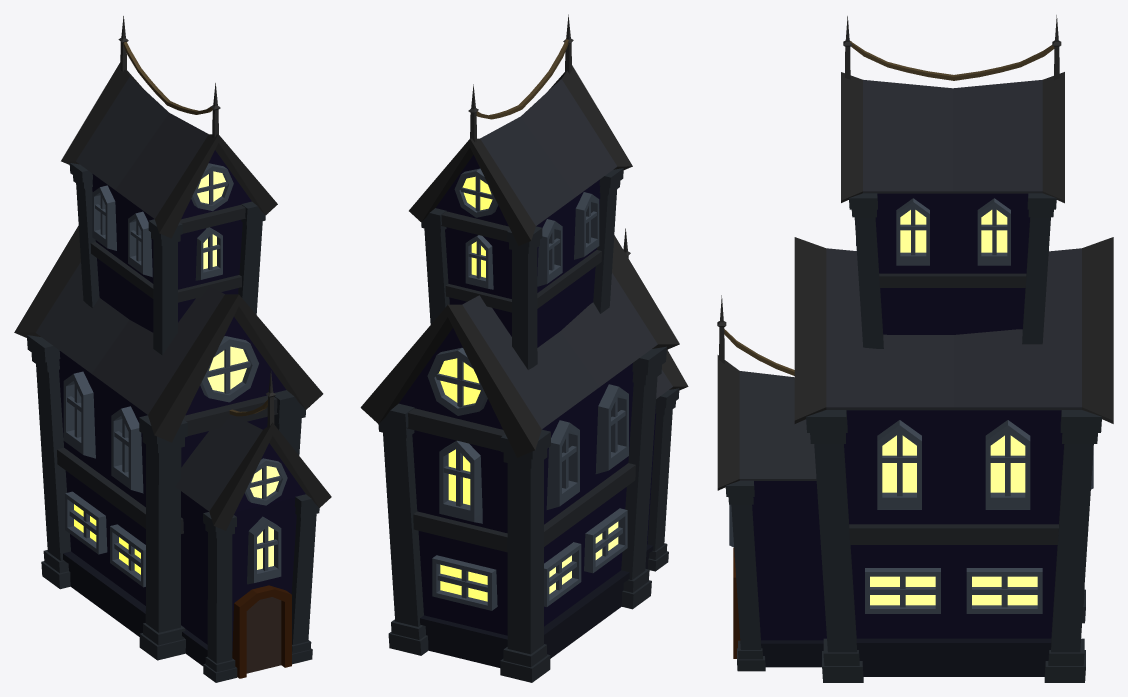
The model's file is Casa6.fbx.
3 renders of one model, left to right at view 1: azimuth 30°, elevation 25°; view 2: azimuth 150°, elevation 25°; view 3: azimuth 270°, elevation 25°, orthographic. The views are drawn at different scales.
Visible parts, largest first — view 1: Teto06, Pilar06, Parede06, JanelaMolde06, Divisao06, Base06, JanelaFundo06, Porta06, PortaContorno06, Ponta06, Corda06; view 2: Teto06, Pilar06, Parede06, JanelaMolde06, Divisao06, Base06, JanelaFundo06, Corda06, Ponta06; view 3: Teto06, Parede06, Pilar06, JanelaMolde06, Base06, JanelaFundo06, Divisao06, Corda06, Ponta06.
Boxes of the visible parts, box(x1,y1,x2,y2) form: Teto06: box(14, 62, 331, 530); Pilar06: box(26, 163, 319, 682); Parede06: box(59, 150, 305, 650); JanelaMolde06: box(63, 163, 287, 587); Divisao06: box(57, 205, 277, 533); Base06: box(63, 551, 207, 665); JanelaFundo06: box(74, 171, 279, 574); Porta06: box(246, 597, 281, 673); PortaContorno06: box(232, 585, 291, 678); Ponta06: box(118, 16, 275, 427); Corda06: box(123, 42, 267, 416); Teto06: box(360, 65, 688, 457); Pilar06: box(378, 168, 679, 682); Parede06: box(399, 155, 656, 635); JanelaMolde06: box(427, 168, 628, 610); Divisao06: box(407, 211, 635, 552); Base06: box(420, 544, 653, 667); JanelaFundo06: box(438, 176, 618, 601); Corda06: box(476, 39, 568, 119); Ponta06: box(468, 14, 630, 257); Teto06: box(717, 72, 1113, 490); Parede06: box(752, 193, 1064, 640); Pilar06: box(725, 193, 1101, 682); JanelaMolde06: box(729, 198, 1093, 613); Base06: box(761, 638, 1051, 676); JanelaFundo06: box(870, 210, 1037, 605); Divisao06: box(849, 273, 1058, 544); Corda06: box(724, 41, 1054, 375); Ponta06: box(717, 15, 1061, 363).
Bounding box in the file's own units: 439 × 1374 × 782.
